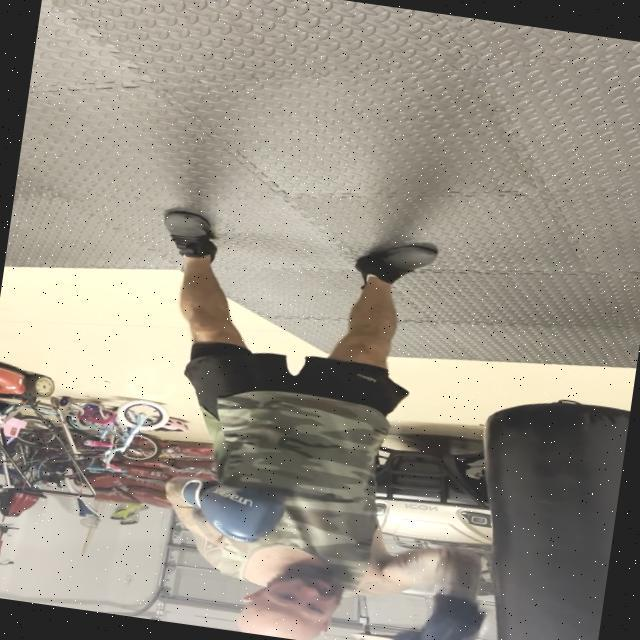bag: (481, 385, 632, 640)
uppercut: (147, 459, 508, 640)
